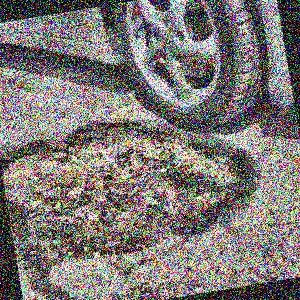pothole: (0, 94, 268, 275)
